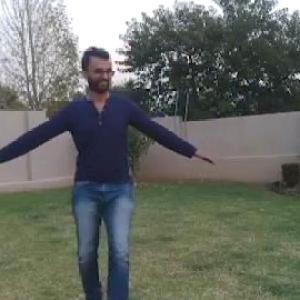land: (1, 32, 243, 299)
